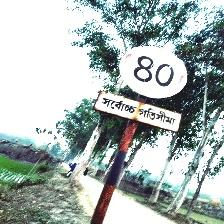Speed-limit: (94, 44, 189, 133)
